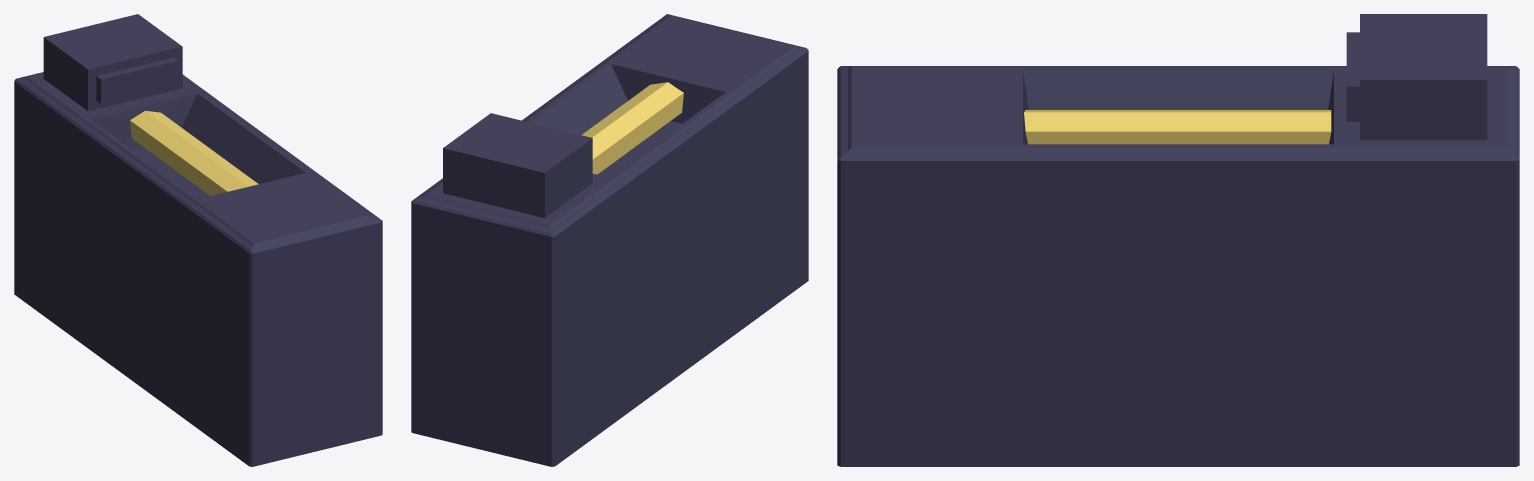
File: Tile-Space-7.fbx
3 views of the same model, side by side, from view 1: azimuth 30°, elevation 25°; view 2: azimuth 150°, elevation 25°; view 3: azimuth 270°, elevation 25° (orthographic). The views are drawn at different scales.
Parts seen in each view (by area): view 1: Tile07; view 2: Tile07; view 3: Tile07.
Boxes of the visible parts, x1,y1,x2,y2 form: Tile07: [14, 14, 382, 466]; Tile07: [411, 14, 808, 466]; Tile07: [837, 14, 1519, 466].
Bounding box in the file's own units: 192 × 357 × 592.
